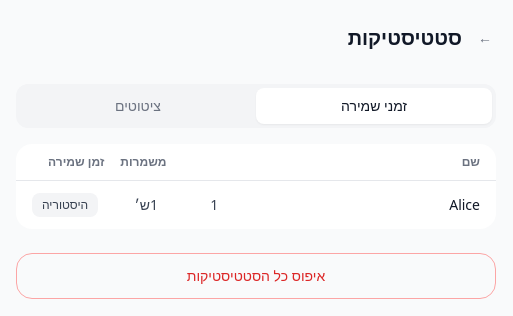
Test: StatisticsScreen — history drill-down › navigates to participant history screen on "היסטוריה" click
Click the button "היסטוריה" at coordinates (65, 205), box [32, 193, 98, 217]
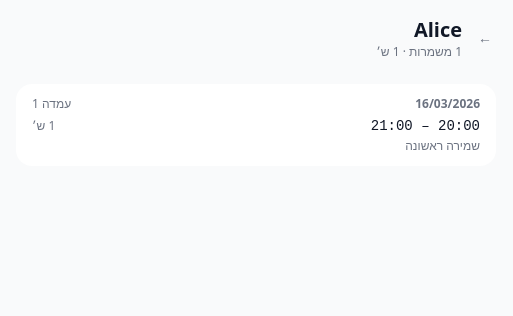
Expected: the heading "Alice" is shown, [414, 16, 462, 43]
Expected: the text "שמירה ראשונה" is shown, [405, 137, 480, 154]
